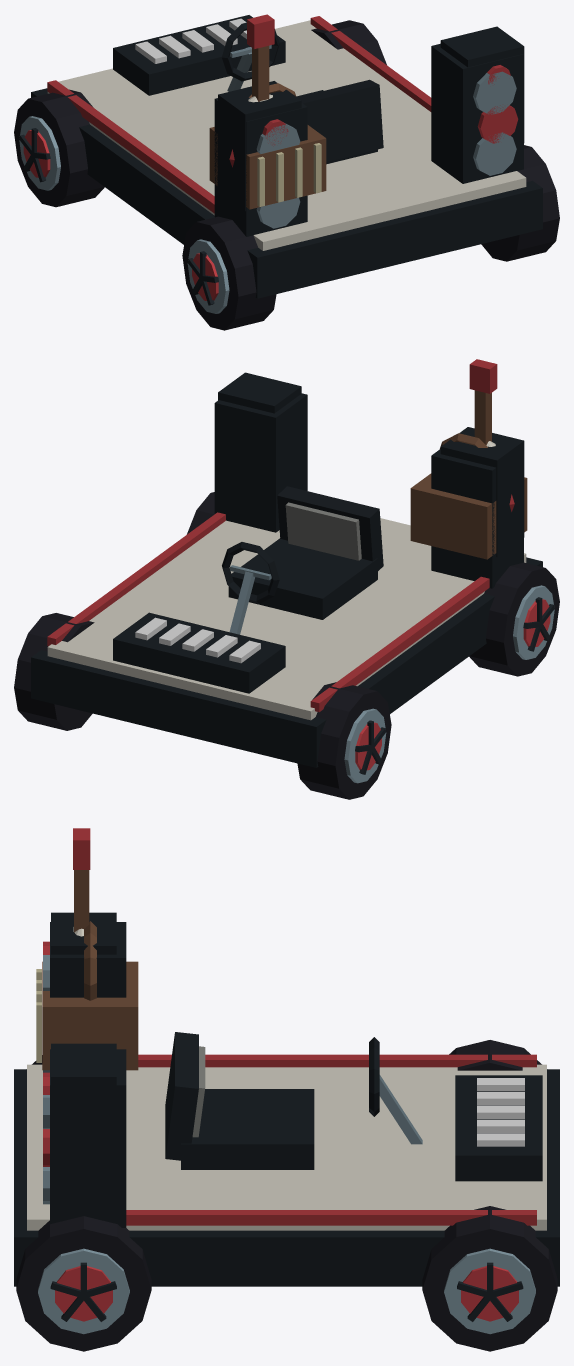
The model's file is kart.glb.
3 views of the same model, one above another, from view 1: azimuth 30°, elevation 25°; view 2: azimuth 150°, elevation 25°; view 3: azimuth 270°, elevation 25° (orthographic). The views are drawn at different scales.
Parts seen in each view (by area): view 1: identity-stage-stage-platform-and-pa-towers, identity-stage-motif-speakers, wheel-front-left, wheel-rear-left, identity-stage-driver-cockpit, identity-stage-motif-basket, wheel-rear-right, identity-stage-motif-guitar, wheel-front-right; view 2: identity-stage-stage-platform-and-pa-towers, identity-stage-driver-cockpit, wheel-front-left, wheel-rear-left, identity-stage-motif-speakers, identity-stage-motif-basket, wheel-front-right, identity-stage-motif-guitar; view 3: identity-stage-stage-platform-and-pa-towers, identity-stage-driver-cockpit, wheel-front-right, wheel-rear-right, identity-stage-motif-speakers, identity-stage-motif-basket, identity-stage-motif-guitar, wheel-front-left.
Boxes of the visible parts, bbox=[...] form: identity-stage-stage-platform-and-pa-towers: bbox=[31, 15, 542, 298]; identity-stage-motif-speakers: bbox=[218, 26, 524, 211]; wheel-front-left: bbox=[14, 89, 104, 207]; wheel-rear-left: bbox=[182, 216, 276, 330]; identity-stage-driver-cockpit: bbox=[222, 22, 383, 164]; identity-stage-motif-basket: bbox=[209, 83, 326, 209]; wheel-rear-right: bbox=[481, 145, 559, 261]; identity-stage-motif-guitar: bbox=[229, 14, 274, 167]; wheel-front-right: bbox=[311, 20, 386, 64]; identity-stage-stage-platform-and-pa-towers: bbox=[31, 393, 542, 767]; identity-stage-driver-cockpit: bbox=[222, 486, 383, 634]; wheel-front-left: bbox=[297, 682, 391, 799]; wheel-rear-left: bbox=[469, 562, 559, 676]; identity-stage-motif-speakers: bbox=[218, 372, 524, 556]; identity-stage-motif-basket: bbox=[410, 433, 527, 559]; wheel-front-right: bbox=[14, 613, 94, 730]; identity-stage-motif-guitar: bbox=[469, 359, 514, 511]; identity-stage-stage-platform-and-pa-towers: bbox=[14, 922, 559, 1286]; identity-stage-driver-cockpit: bbox=[165, 1032, 422, 1169]; wheel-front-right: bbox=[422, 1206, 557, 1351]; wheel-rear-right: bbox=[16, 1216, 151, 1351]; identity-stage-motif-speakers: bbox=[43, 912, 116, 1193]; identity-stage-motif-basket: bbox=[36, 921, 138, 1070]; identity-stage-motif-guitar: bbox=[73, 828, 90, 936]; wheel-front-left: bbox=[449, 1040, 541, 1070].
Bounding box in the file's own units: 2.16 × 1.8 × 2.5.
